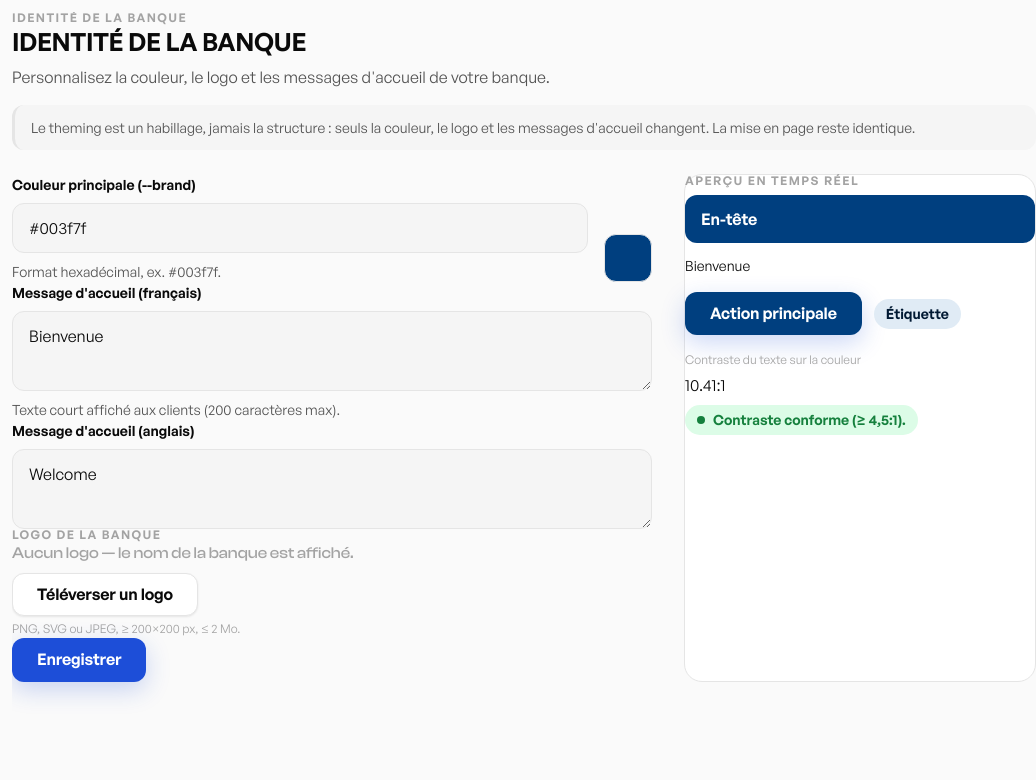
it: ThemingConsole — save (PATCH) sans rechargement › ADM-001b: save renvoyant une couleur corrigée → la valeur persistée est reflétée
Click the button with test id "adm-theme-save" at (79, 660), box [12,638,146,682]
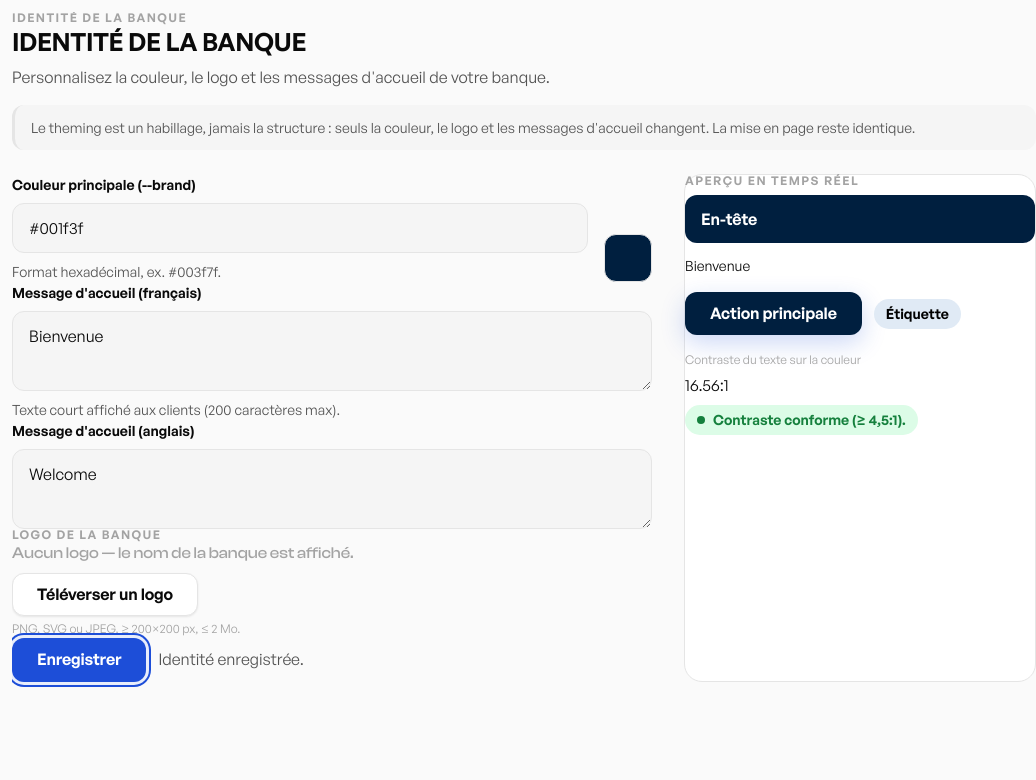
Expected: the message "Identité enregistrée." is shown, [158,649,304,669]
Expected: the field with test id "adm-brand-hex" holds "#001f3f", [12,203,588,253]
